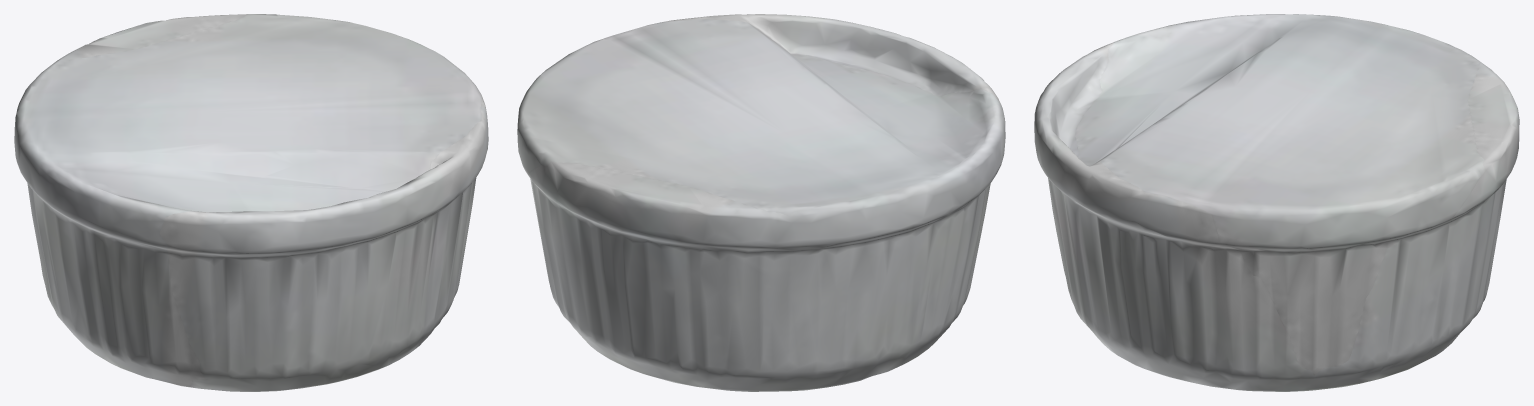
Rendered from Threshold_Ramekin_White_Porcelain-high.glb.
3 renders of one model, left to right at view 1: azimuth 30°, elevation 25°; view 2: azimuth 150°, elevation 25°; view 3: azimuth 270°, elevation 25°, orthographic.
Parts seen in each view (by area): view 1: Threshold_Ramekin_White_Porcelain; view 2: Threshold_Ramekin_White_Porcelain; view 3: Threshold_Ramekin_White_Porcelain.
Part boxes in pixels (left/top/right/bottom): Threshold_Ramekin_White_Porcelain: left=14, top=14, right=488, bottom=391; Threshold_Ramekin_White_Porcelain: left=517, top=14, right=1005, bottom=391; Threshold_Ramekin_White_Porcelain: left=1034, top=14, right=1519, bottom=391.
Bounding box in the file's own units: 0.1119 × 0.0527 × 0.1117.
Materials: 1 (1 with a texture image).
